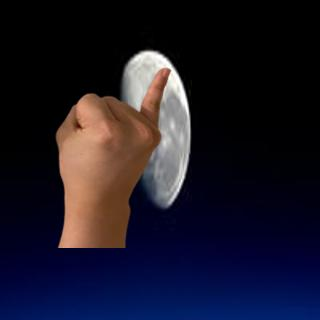FINE: (46, 61, 176, 212)
